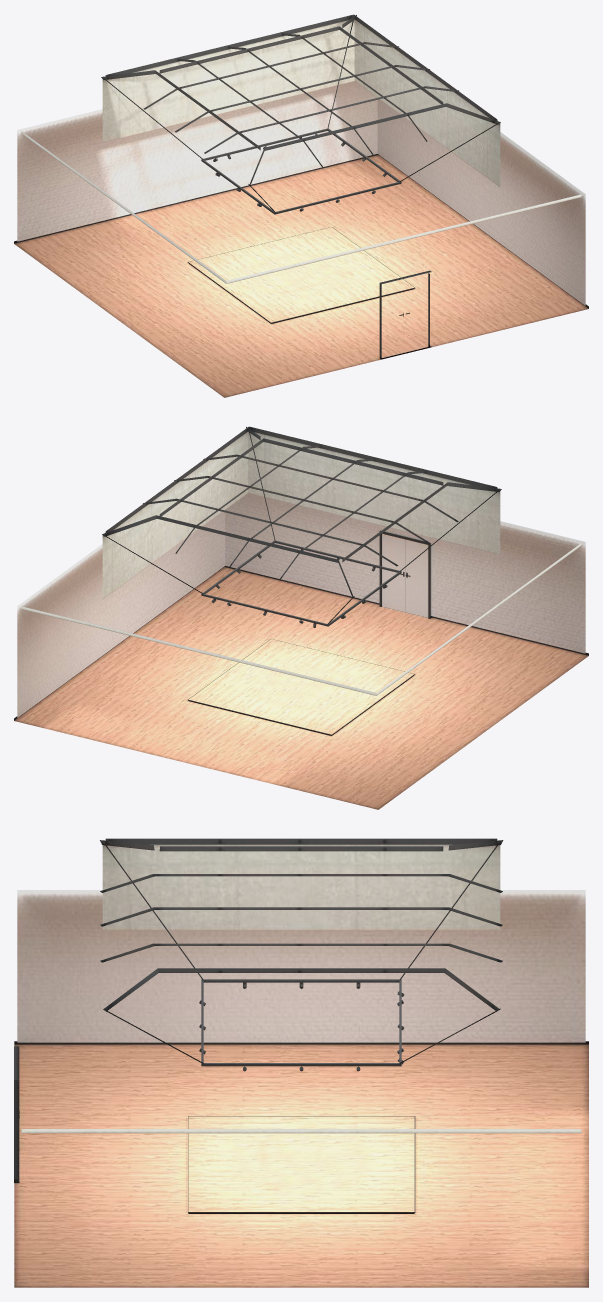
File: room.glb
The picture shows the model from 3 angles, top to bottom: view 1: azimuth 30°, elevation 25°; view 2: azimuth 150°, elevation 25°; view 3: azimuth 270°, elevation 25°; orthographic projection. The views are drawn at different scales.
Visible parts, largest first — view 1: VR_Gallery; view 2: VR_Gallery; view 3: VR_Gallery.
Part boxes in pixels (x1,y1,x2,y2): VR_Gallery: (14, 14, 588, 397); VR_Gallery: (14, 426, 588, 809); VR_Gallery: (14, 838, 588, 1287).
Size of the model in its own units: 10.12 by 5.05 by 10.12.
1 material, 1 textured.
